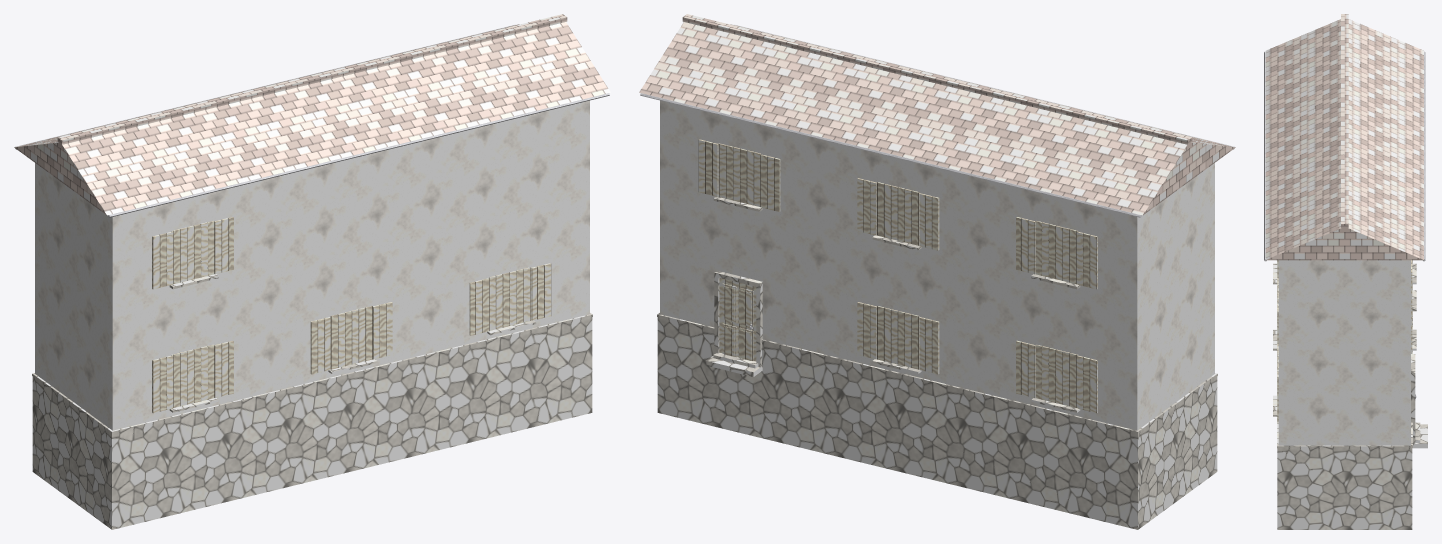
3 renders of one model, left to right at view 1: azimuth 30°, elevation 25°; view 2: azimuth 150°, elevation 25°; view 3: azimuth 270°, elevation 25°, orthographic. The views are drawn at different scales.
Visible parts, largest first — view 1: b962648347; view 2: b962648347; view 3: b962648347.
Boxes of the visible parts, box(x1,y1,x2,y2) form: b962648347: box(14, 14, 610, 529); b962648347: box(639, 14, 1235, 529); b962648347: box(1264, 14, 1427, 529).
Size of the model in its own units: 13.24 by 9.14 by 4.36.
Materials: 16 (16 with a texture image).
